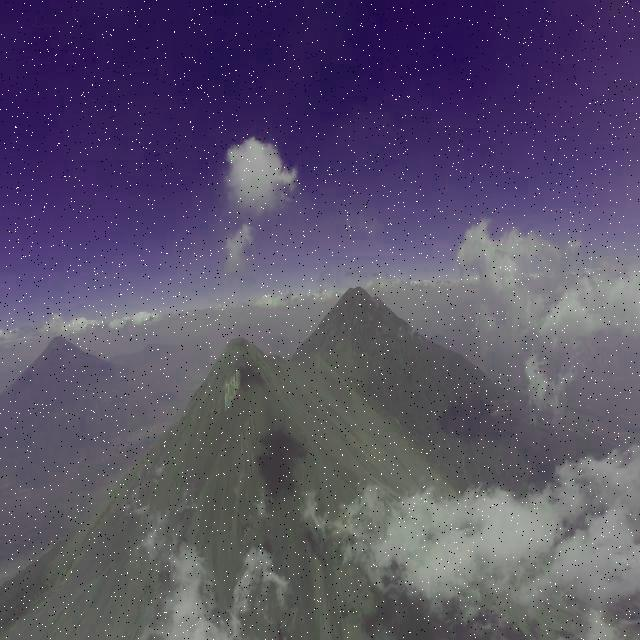Summit: (180, 334, 290, 418)
